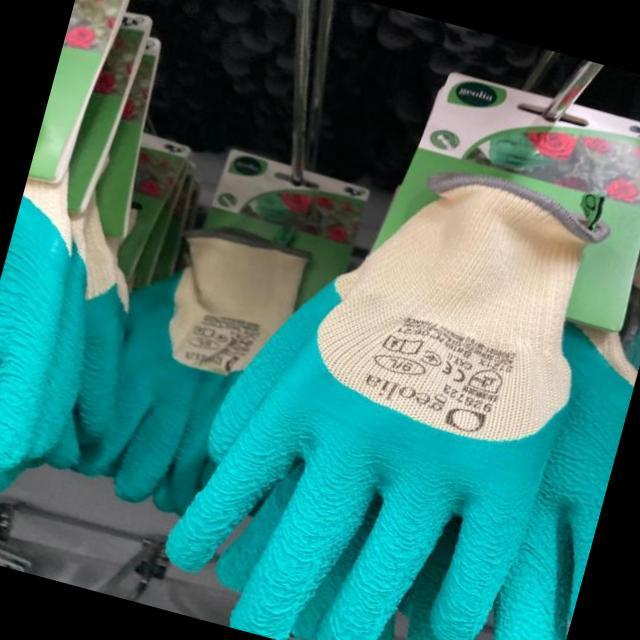glove: (168, 169, 607, 639), (101, 229, 305, 505)
